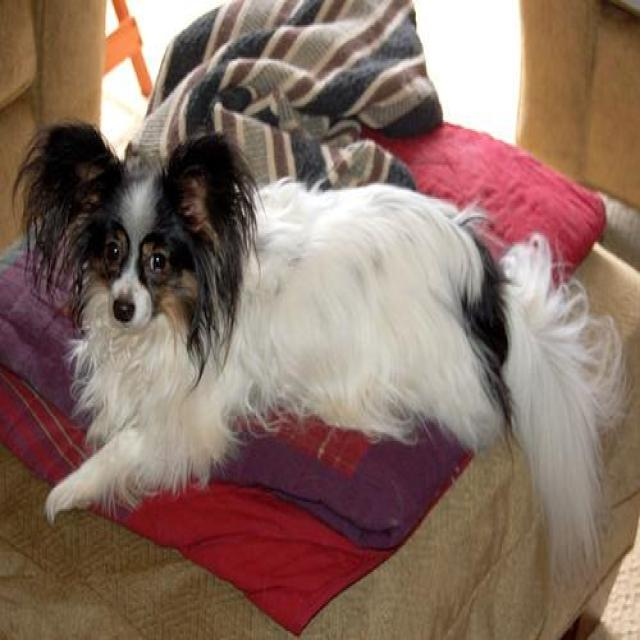papillon: (26, 119, 606, 568)
